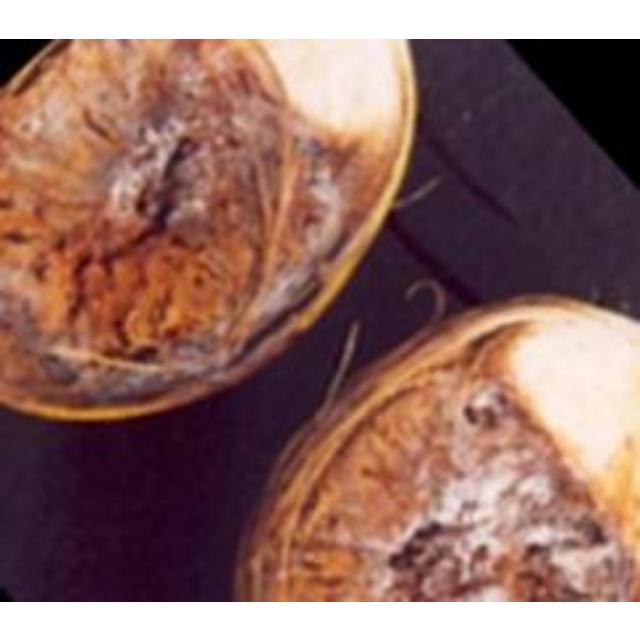damaged: (0, 38, 420, 426), (231, 292, 637, 599)
